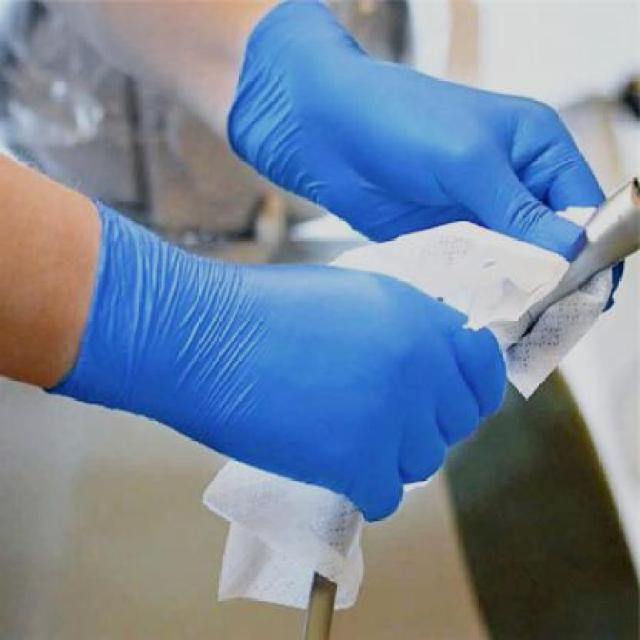glove: (69, 206, 536, 549), (207, 0, 622, 252)
